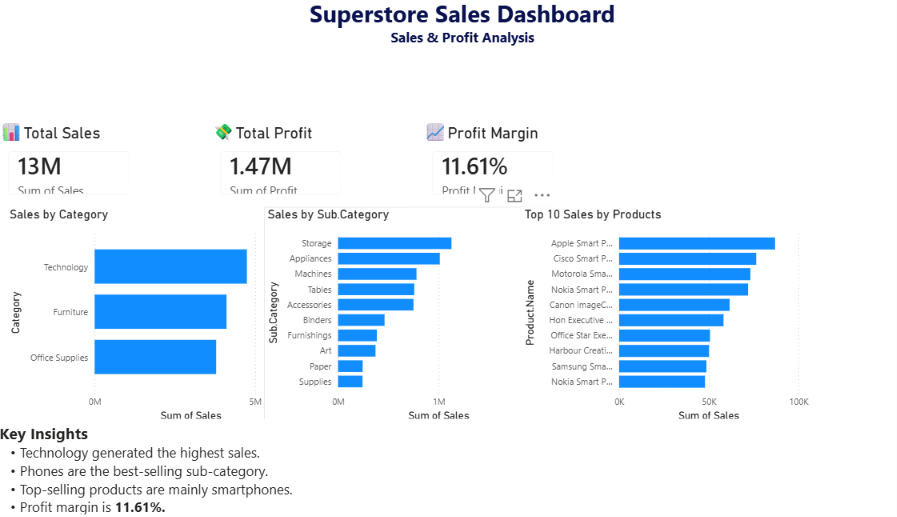

The page's visual inventory and layout, read from the dashboard file:
{"tool":"powerbi","page":{"name":"Executive Dashboard","canvas":[1280,720],"ordinal":0},"visuals":[{"type":"cardVisual","title":"📊Total Sales","fields":{"Data":["Sum(Raw_Data.Sales)"]},"box":[0,174.3,200,120],"z":0},{"type":"cardVisual","title":"💸Total Profit","fields":{"Data":["Sum(Raw_Data.Profit)"]},"box":[290.9,174.3,200,120],"z":1},{"type":"cardVisual","title":"📈Profit Margin","fields":{"Data":["Raw_Data.Profit Margin"]},"box":[581.8,174.3,200,120],"z":2},{"type":"textbox","box":[0,1.4,1280.3,153.7],"z":3},{"type":"clusteredBarChart","title":" Sales by Category","fields":{"Category":["Raw_Data.Category"],"Y":["Sum(Raw_Data.Sales)"]},"box":[13.7,293.7,400,300],"z":4},{"type":"clusteredBarChart","title":" Sales by Sub.Category","fields":{"Category":["Raw_Data.Sub.Category"],"Y":["Sum(Raw_Data.Sales)"]},"box":[367.1,293.7,400,300],"z":5},{"type":"clusteredBarChart","title":"Top 10 Sales by Products","fields":{"Category":["Raw_Data.Product.Name"],"Y":["Sum(Raw_Data.Sales)"]},"box":[720.4,293.7,400,300],"z":6},{"type":"textbox","box":[0,584.6,1262.4,135.8],"z":7}]}

Visuals, with their boxes in screenshot pixels (x1, y1, x2, y2), scaled from the page's 1280x720 canvas onto the 897x517 screenshot:
"📊Total Sales" cardVisual: (x1=0, y1=125, x2=140, y2=211)
"💸Total Profit" cardVisual: (x1=204, y1=125, x2=344, y2=211)
"📈Profit Margin" cardVisual: (x1=408, y1=125, x2=548, y2=211)
textbox: (x1=0, y1=1, x2=896, y2=111)
" Sales by Category" clusteredBarChart: (x1=10, y1=211, x2=290, y2=426)
" Sales by Sub.Category" clusteredBarChart: (x1=257, y1=211, x2=538, y2=426)
"Top 10 Sales by Products" clusteredBarChart: (x1=505, y1=211, x2=785, y2=426)
textbox: (x1=0, y1=420, x2=885, y2=516)
